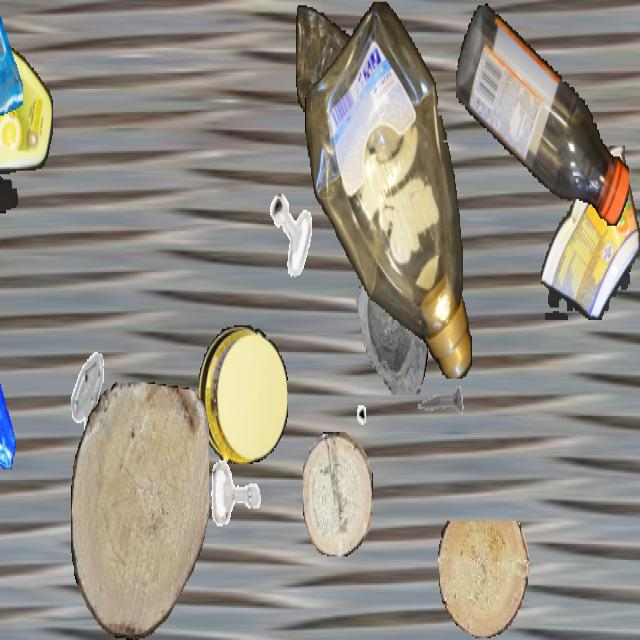glass: (341, 234, 431, 394), (0, 338, 24, 469), (0, 1, 23, 116)
metal: (205, 439, 267, 549), (57, 349, 117, 455), (413, 363, 465, 455), (316, 353, 366, 442), (267, 190, 315, 276)
plastic: (305, 1, 473, 378), (456, 2, 628, 229), (541, 146, 639, 320), (199, 325, 287, 464), (0, 32, 52, 213), (296, 2, 370, 126)
wood: (71, 382, 209, 638), (438, 521, 528, 638), (303, 432, 373, 556)
